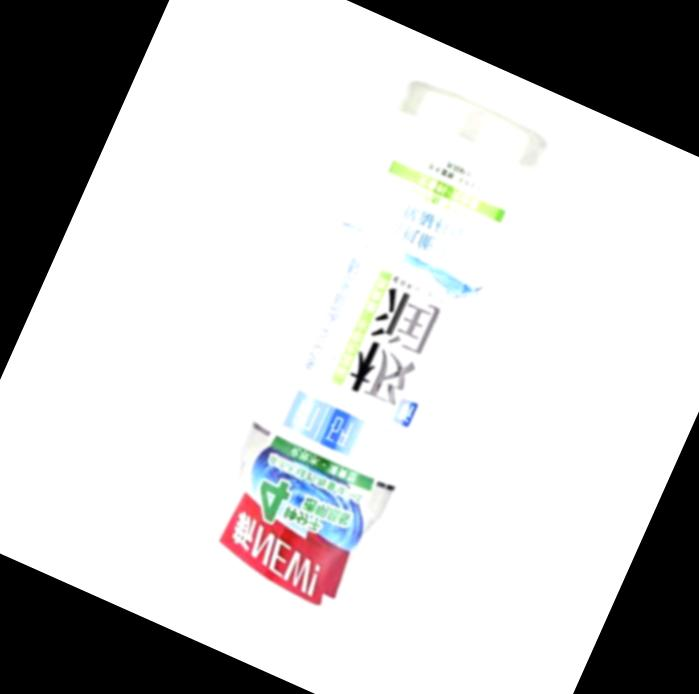cosmetic: (183, 81, 543, 638)
